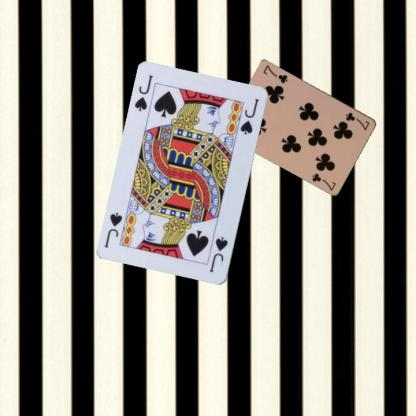7c: (343, 110, 371, 131)
Js: (206, 234, 230, 274), (132, 72, 154, 112)
